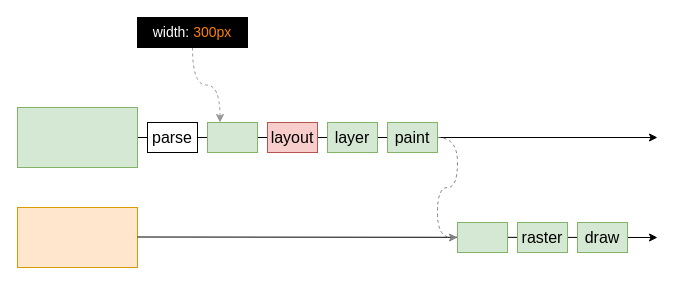
This 683x285 diagram has some shape labels left out. Each missing label, with the centre of its shape:
style: the point at 232,137
tiling: the point at 482,237
合成线程: the point at 77,237
渲染主线程: the point at 77,137
